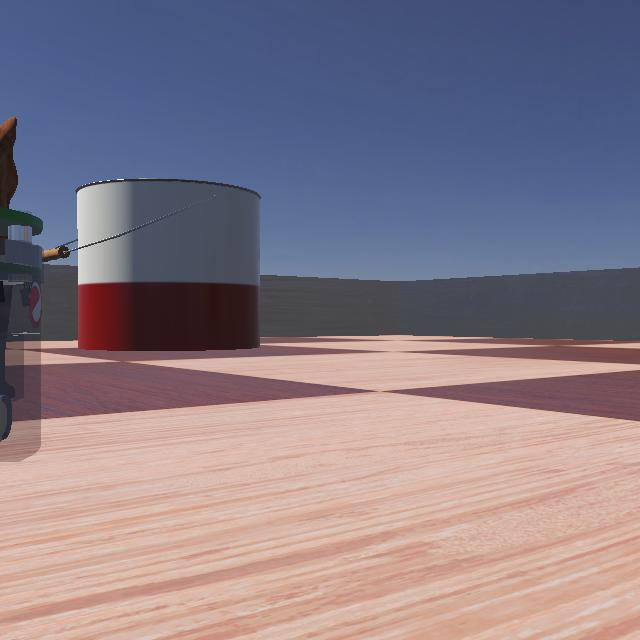paint-bucket: (1, 166, 268, 354)
